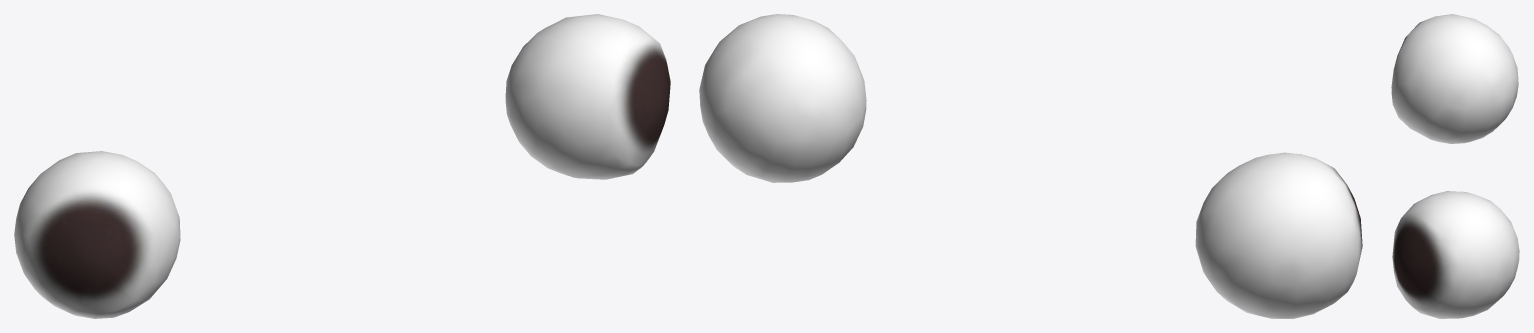
The model's file is Eyes.glb.
3 views of the same model, side by side, from view 1: azimuth 30°, elevation 25°; view 2: azimuth 150°, elevation 25°; view 3: azimuth 270°, elevation 25° (orthographic). The views are drawn at different scales.
Parts seen in each view (by area): view 1: eyes.001; view 2: eyes.001; view 3: eyes.001.
Boxes of the visible parts, x1,y1,x2,y2 form: eyes.001: [14, 14, 670, 318]; eyes.001: [699, 14, 1362, 318]; eyes.001: [1391, 14, 1519, 318].
Size of the model in its own units: 0.1923 by 0.0472 by 0.0427.
1 material, 1 textured.
